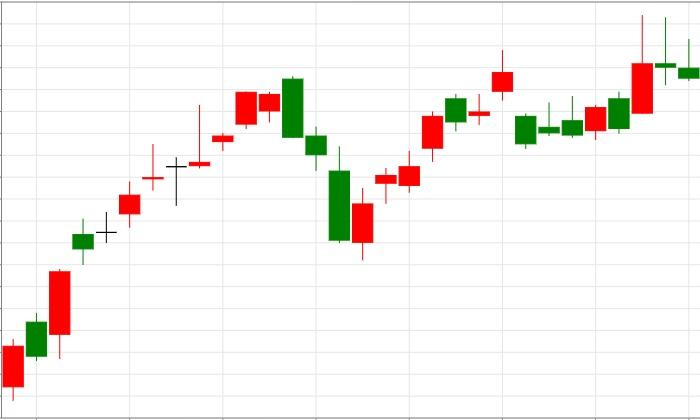bearish_engulfing_fall: (119, 75, 304, 227)
three_black_crows_fall: (119, 75, 350, 244)
